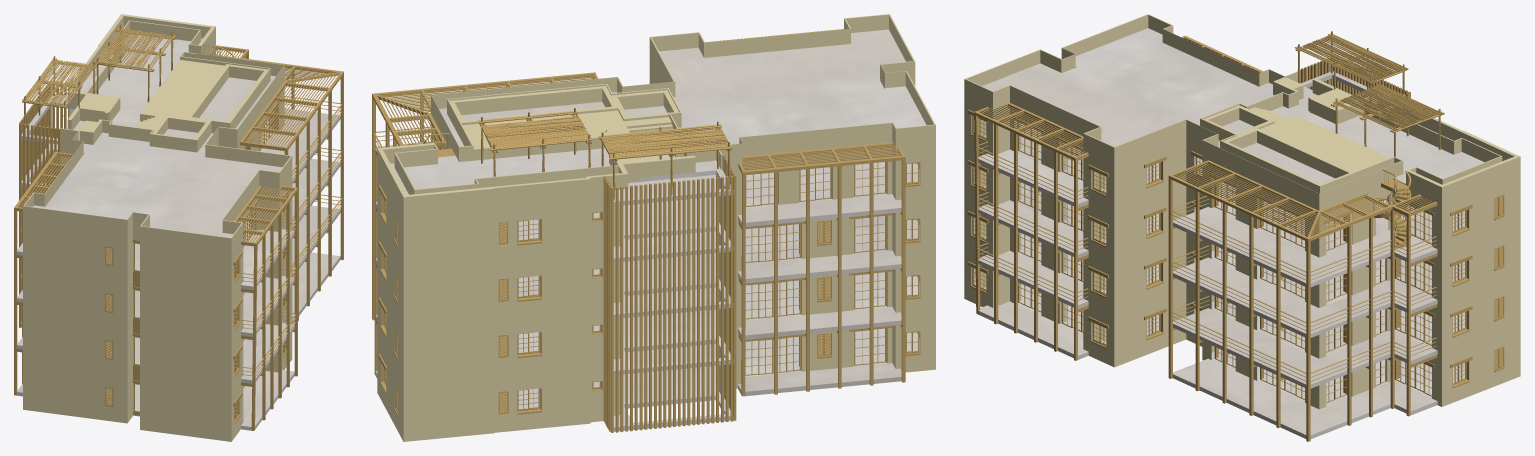
The model's file is Residencial03.glb.
The picture shows the model from 3 angles, left to right: view 1: azimuth 30°, elevation 25°; view 2: azimuth 150°, elevation 25°; view 3: azimuth 270°, elevation 25°; orthographic projection. The views are drawn at different scales.
Parts seen in each view (by area): view 1: R03W_Wall, R03W_Florplates, R03W_Wood, R03W_Wall02, R03W_Frames; view 2: R03W_Wall, R03W_Florplates, R03W_Wood, R03W_Frames, R03W_Wall02; view 3: R03W_Wall, R03W_Florplates, R03W_Wood, R03W_Frames, R03W_Wall02.
Part boxes in pixels (x1,y1,x2,y2): R03W_Wall: [23, 14, 292, 441]; R03W_Florplates: [16, 34, 340, 430]; R03W_Wood: [14, 25, 343, 430]; R03W_Wall02: [105, 101, 291, 424]; R03W_Frames: [133, 109, 287, 420]; R03W_Wall: [377, 14, 935, 441]; R03W_Florplates: [375, 29, 926, 431]; R03W_Wood: [372, 29, 905, 432]; R03W_Frames: [384, 148, 919, 411]; R03W_Wall02: [378, 132, 919, 415]; R03W_Wall: [964, 14, 1520, 409]; R03W_Florplates: [976, 28, 1484, 438]; R03W_Wood: [974, 31, 1503, 441]; R03W_Frames: [972, 115, 1466, 402]; R03W_Wall02: [967, 109, 1504, 395].
Bounding box in the file's own units: 33.51 × 18.66 × 37.84.
Materials: 3 (1 with a texture image).
